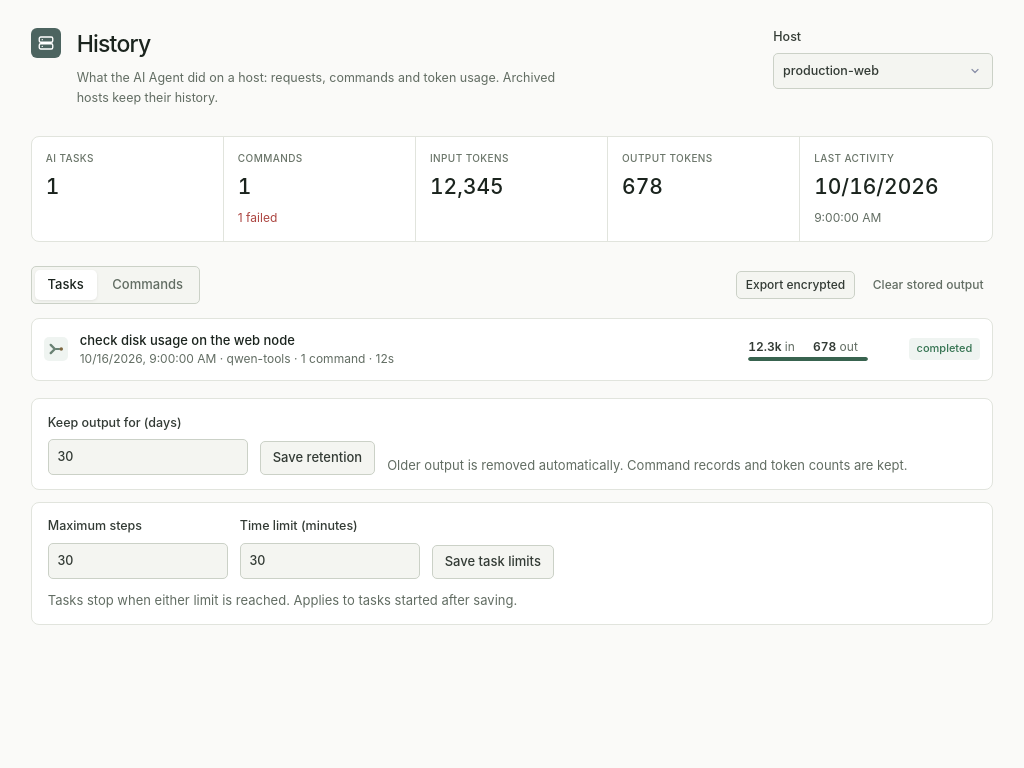
Test: HostHistoryTab › opens a task with its tokens and the commands it ran
Click the text "check disk usage on the web node".
click(187, 340)  # box 80,332 -> 295,348
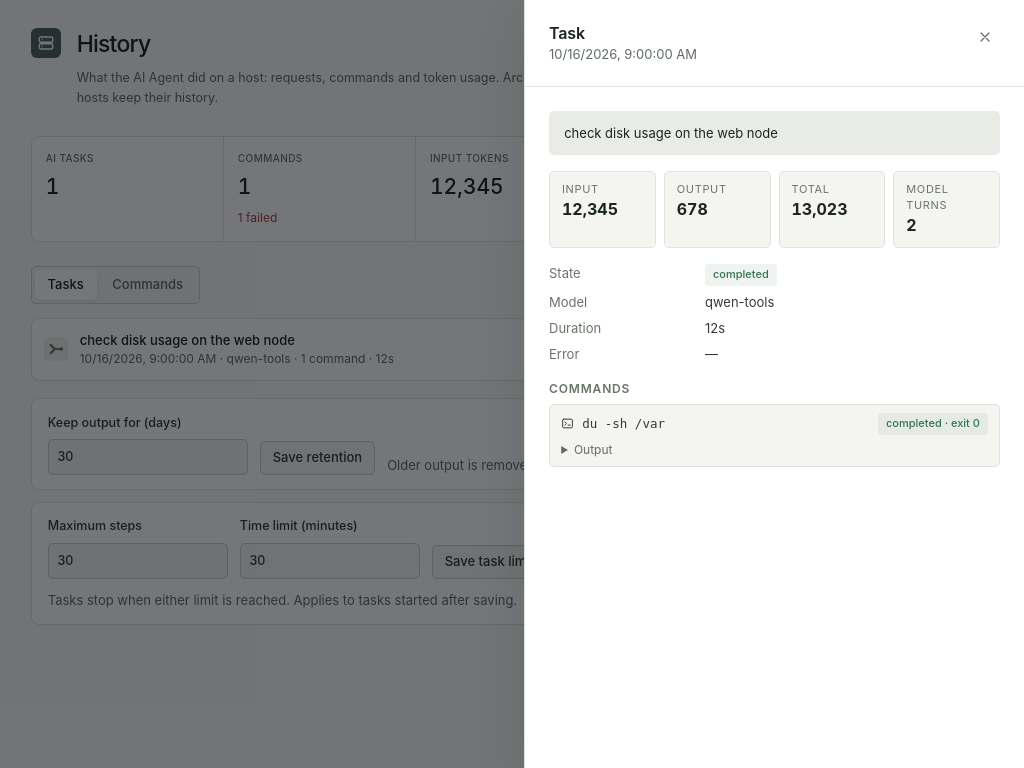
Result: the text "du -sh /var" is shown at 582,414 -> 665,433
